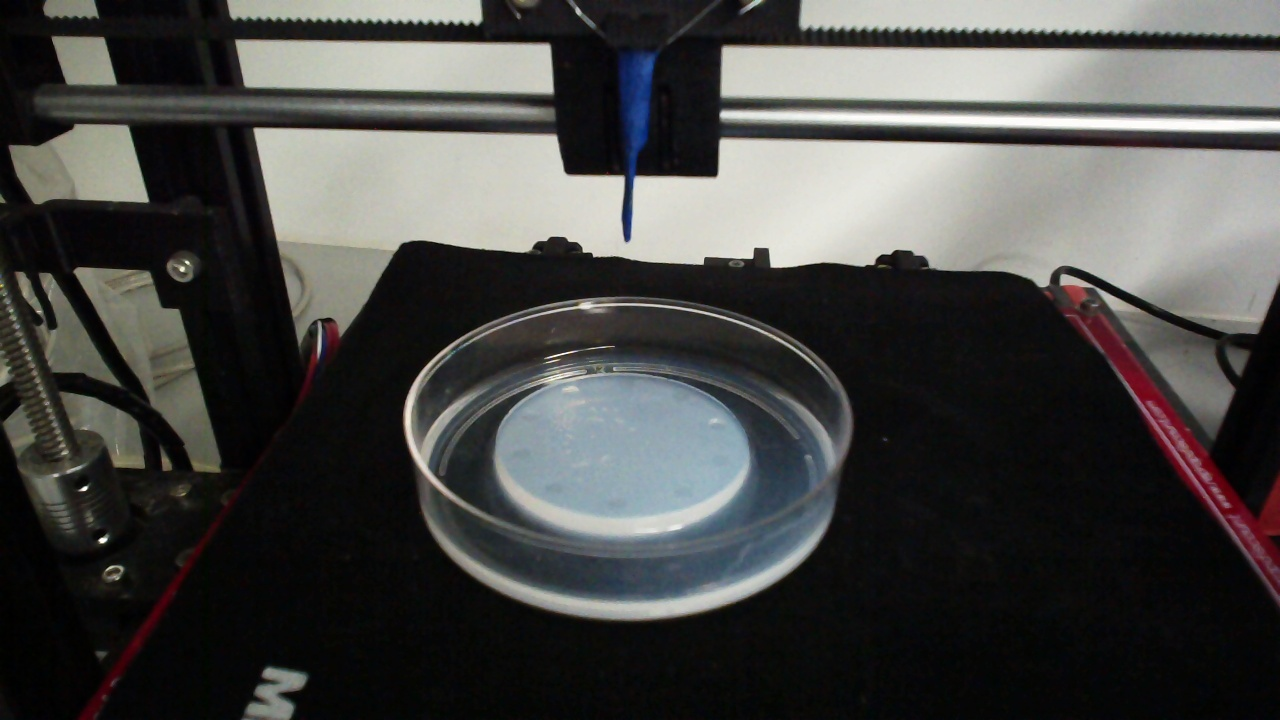groove: (543, 480, 567, 496), (670, 484, 692, 500), (605, 497, 629, 511), (706, 417, 728, 432), (613, 377, 636, 391), (710, 453, 731, 468), (509, 447, 531, 461), (671, 388, 691, 403), (559, 384, 580, 398), (519, 409, 539, 423)
needle: (620, 50, 656, 244)
